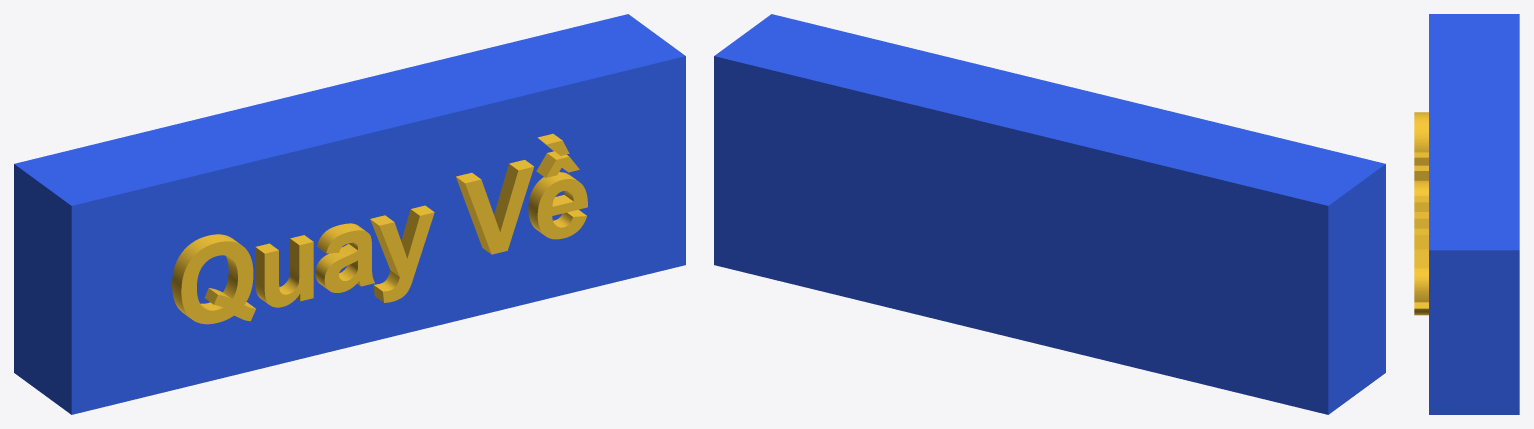
File: quayve.glb
The picture shows the model from 3 angles, left to right: view 1: azimuth 30°, elevation 25°; view 2: azimuth 150°, elevation 25°; view 3: azimuth 270°, elevation 25°; orthographic projection. The views are drawn at different scales.
Visible parts, largest first — view 1: Cube, Text.008; view 2: Cube; view 3: Cube, Text.008.
Boxes of the visible parts, x1,y1,x2,y2 form: Cube: [14, 14, 685, 414]; Text.008: [172, 133, 587, 324]; Cube: [714, 14, 1385, 414]; Cube: [1429, 14, 1519, 414]; Text.008: [1414, 112, 1428, 315].
Bounding box in the file's own units: 2.04 × 0.6639 × 0.3852.
